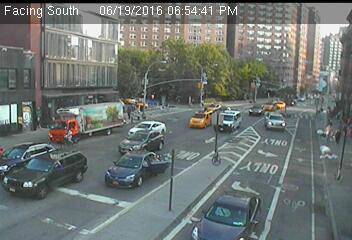neg: (41, 171, 61, 198), (81, 57, 100, 82), (276, 151, 295, 176), (240, 190, 258, 215), (235, 127, 253, 151), (208, 142, 225, 164), (49, 130, 65, 152), (133, 136, 149, 157), (162, 128, 178, 149), (233, 54, 249, 75), (122, 49, 138, 70), (191, 117, 206, 137), (61, 75, 76, 95), (74, 107, 88, 126), (194, 199, 208, 218), (165, 197, 179, 215), (115, 200, 129, 218), (159, 56, 172, 75), (276, 74, 289, 92), (259, 116, 272, 133), (196, 66, 209, 83)
pos: (64, 127, 77, 145), (333, 128, 346, 145)
